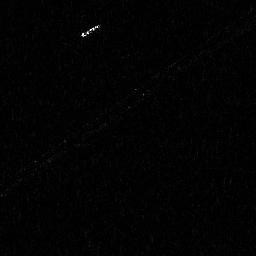ship: (80, 23, 101, 38)
